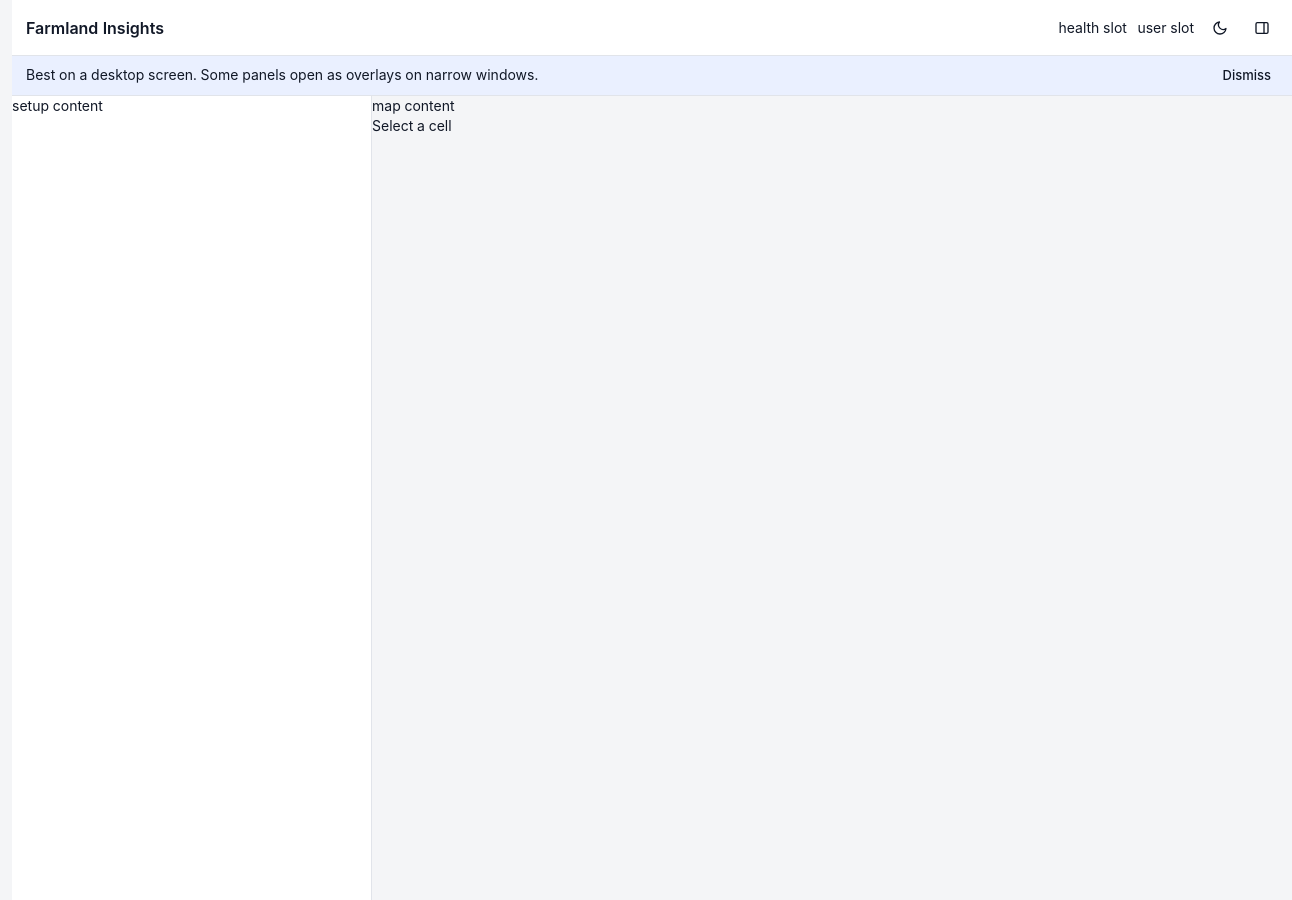
Test: AppShell › below 1280px shows a polite notice that can be dismissed
The width and height of the screenshot is (1292, 900).
Check: the message shows "Best on a desktop screen", box [26,66,538,83]
Click the button "Dismiss" at [1247, 75], box [1216,63,1278,88]
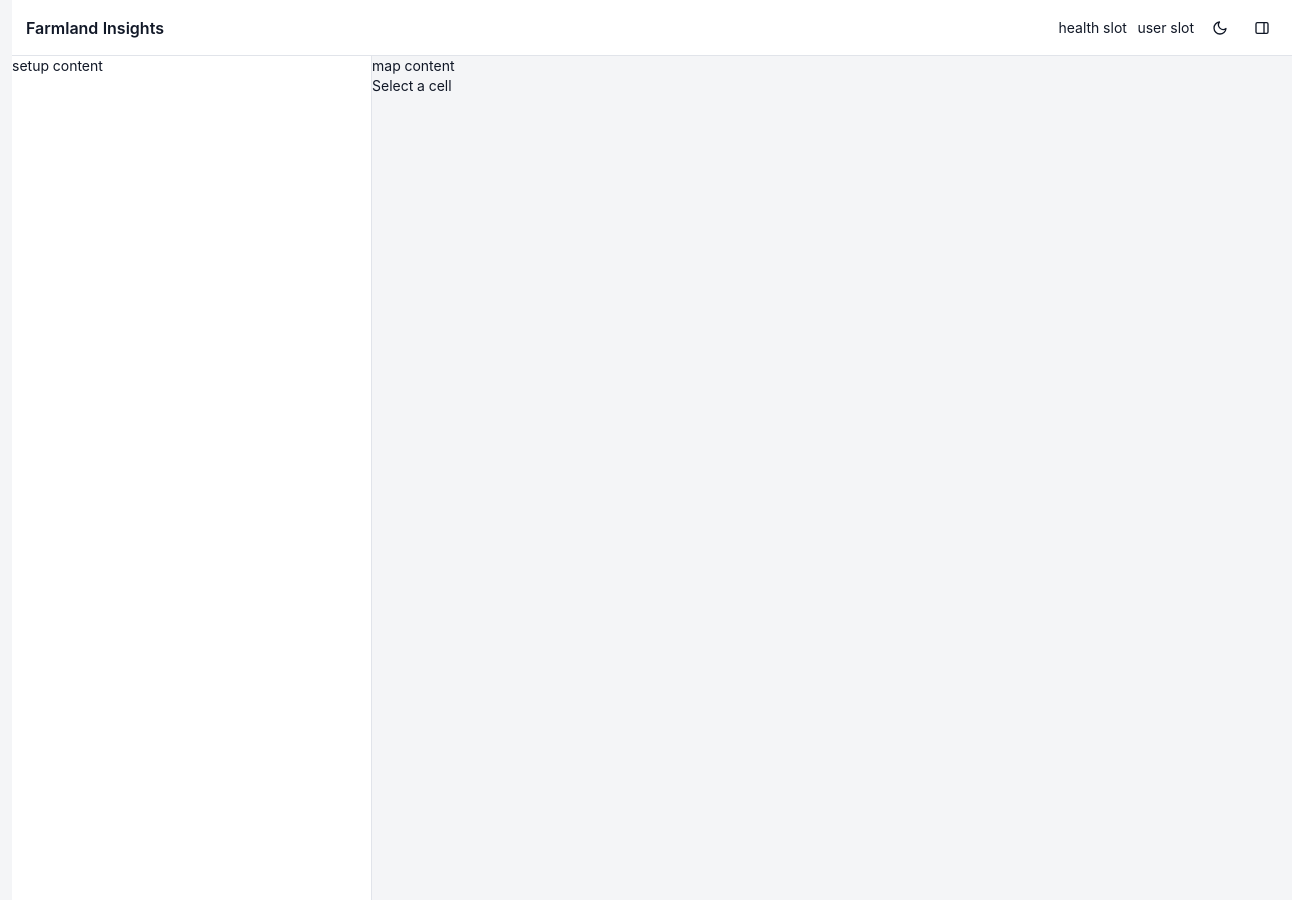
Check: the text "Best on a desktop screen" is gone
